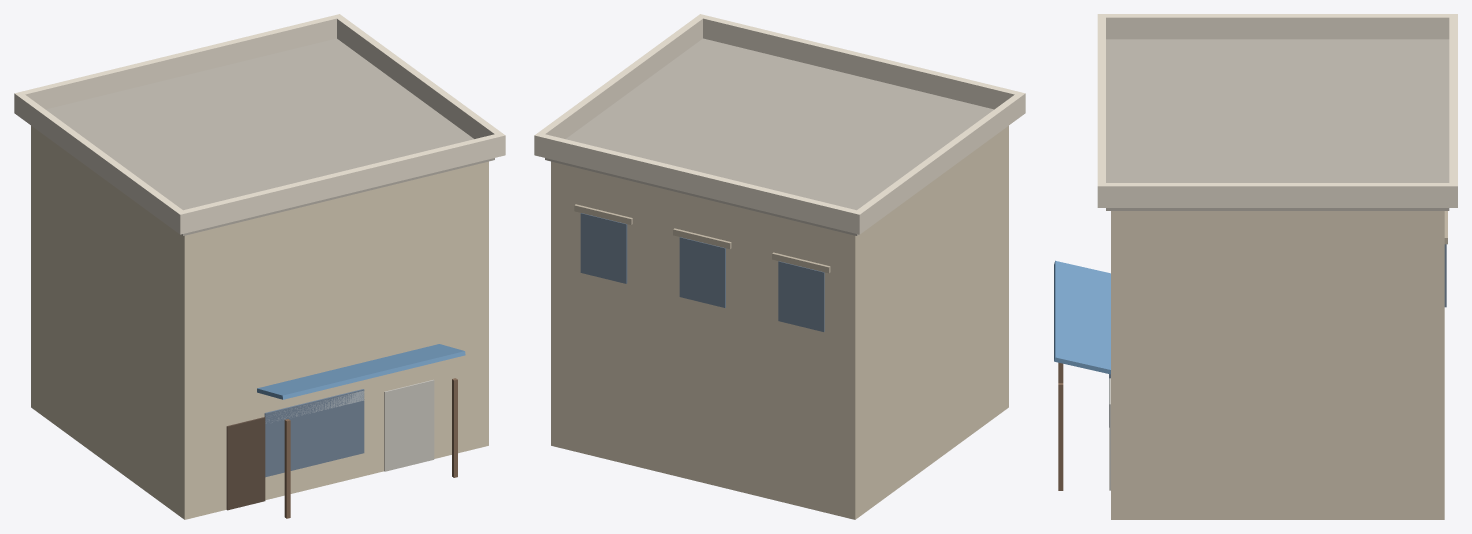
Rendered from etage_sable.glb.
3 renders of one model, left to right at view 1: azimuth 30°, elevation 25°; view 2: azimuth 150°, elevation 25°; view 3: azimuth 270°, elevation 25°, orthographic. The views are drawn at different scales.
Visible parts, largest first — view 1: etageA_mur, etageA_dalle, etageA_p1, etageA_p2, etageA_vitrine, etageA_p4, etageA_volet, etageA_p3, etageA_store, etageA_porte, etageA_pot1, etageA_reflet (+1 smaller); view 2: etageA_mur, etageA_dalle, etageA_p2, etageA_p1, etageA_p4, etageA_p3, etageA_fen2, etageA_fen0, etageA_fen1; view 3: etageA_mur, etageA_dalle, etageA_p4, etageA_p3, etageA_store, etageA_p1, etageA_p2, etageA_pot2.
Boxes of the visible parts, bbox=[...] form: etageA_mur: bbox=[31, 125, 488, 519]; etageA_dalle: bbox=[46, 38, 494, 235]; etageA_p1: bbox=[176, 132, 505, 234]; etageA_p2: bbox=[14, 14, 343, 115]; etageA_vitrine: bbox=[264, 389, 364, 477]; etageA_p4: bbox=[18, 94, 182, 231]; etageA_volet: bbox=[384, 379, 434, 471]; etageA_p3: bbox=[337, 17, 501, 138]; etageA_store: bbox=[257, 344, 465, 399]; etageA_porte: bbox=[226, 417, 265, 510]; etageA_pot1: bbox=[284, 419, 290, 518]; etageA_reflet: bbox=[265, 390, 364, 423]; etageA_mur: bbox=[551, 125, 1008, 519]; etageA_dalle: bbox=[545, 38, 993, 235]; etageA_p2: bbox=[534, 132, 863, 234]; etageA_p1: bbox=[696, 14, 1025, 115]; etageA_p4: bbox=[857, 94, 1021, 231]; etageA_p3: bbox=[538, 17, 702, 138]; etageA_fen2: bbox=[580, 213, 627, 283]; etageA_fen0: bbox=[778, 261, 824, 331]; etageA_fen1: bbox=[679, 237, 725, 307]; etageA_mur: bbox=[1111, 211, 1444, 519]; etageA_dalle: bbox=[1106, 39, 1449, 210]; etageA_p4: bbox=[1106, 14, 1449, 39]; etageA_p3: bbox=[1106, 183, 1449, 207]; etageA_store: bbox=[1054, 260, 1110, 374]; etageA_p1: bbox=[1097, 14, 1105, 207]; etageA_p2: bbox=[1449, 14, 1457, 207]; etageA_pot2: bbox=[1058, 383, 1063, 490].
Size of the model in its own units: 8.56 by 7.85 by 8.47.
